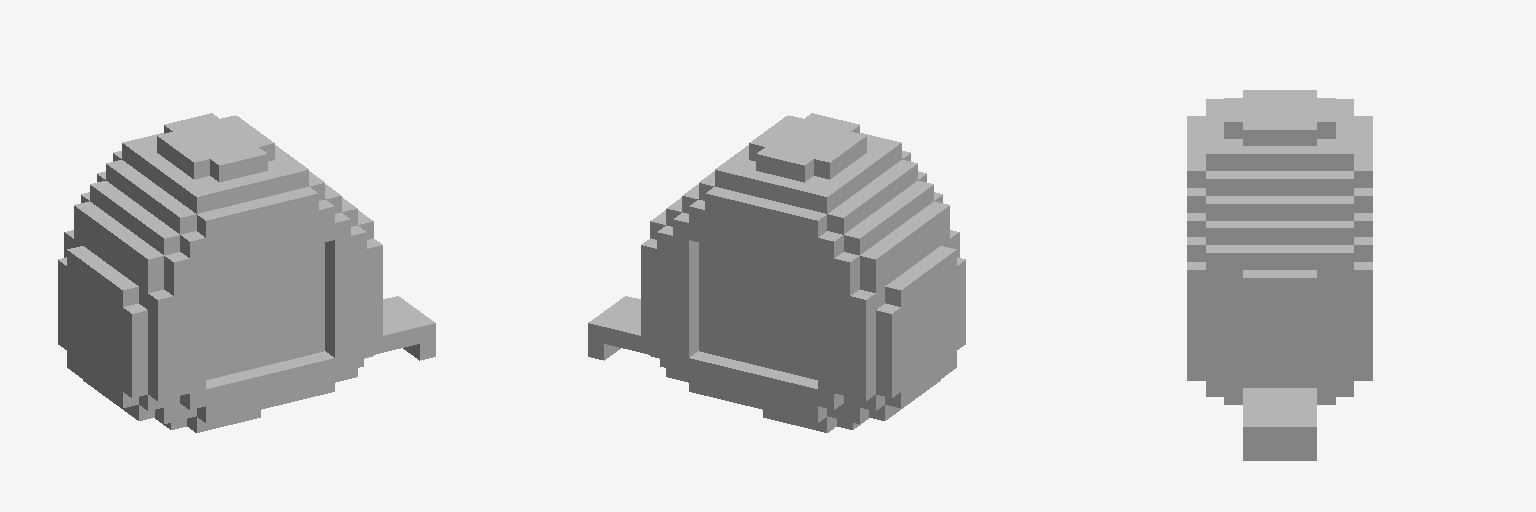
Rendered from Tape Measure.obj.
The picture shows the model from 3 angles: view 1: azimuth 30°, elevation 25°; view 2: azimuth 150°, elevation 25°; view 3: azimuth 270°, elevation 25°; orthographic projection.
Parts seen in each view (by area): view 1: object 1; view 2: object 1; view 3: object 1.
Boxes of the visible parts, <box> form: object 1: <box>58,113,435,432</box>; object 1: <box>588,113,965,432</box>; object 1: <box>1187,90,1372,460</box>.
Bounding box in the file's own units: 2 × 1.5 × 1.